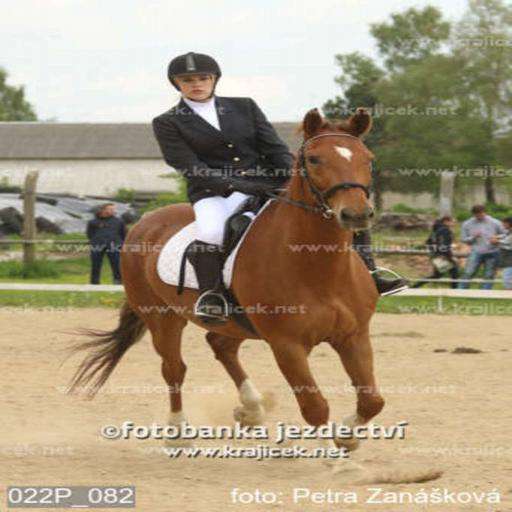Horse: (54, 106, 389, 473)
